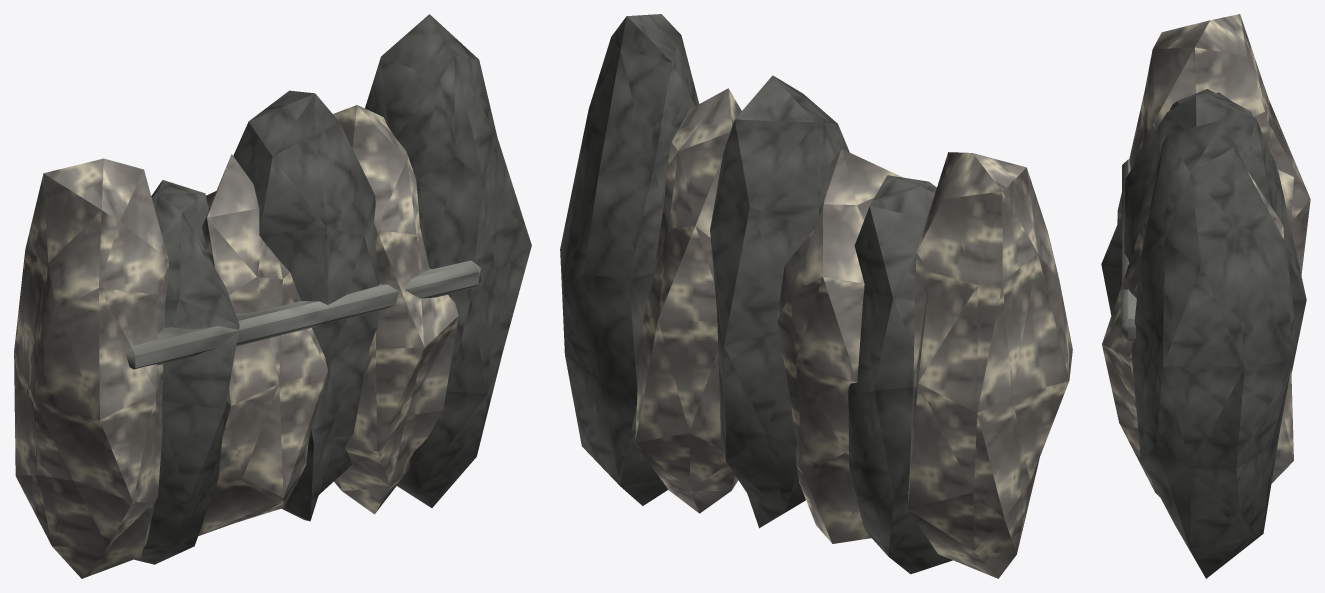
Rendered from SM_Cliff_Face02.fbx.
The picture shows the model from 3 angles, left to right: view 1: azimuth 30°, elevation 25°; view 2: azimuth 150°, elevation 25°; view 3: azimuth 270°, elevation 25°; orthographic projection. The views are drawn at different scales.
Visible parts, largest first — view 1: SM_Cliff_Face02; view 2: SM_Cliff_Face02; view 3: SM_Cliff_Face02.
Boxes of the visible parts, x1,y1,x2,y2 form: SM_Cliff_Face02: (14,14,531,578); SM_Cliff_Face02: (560,14,1072,578); SM_Cliff_Face02: (1101,14,1310,578).
Size of the model in its own units: 24.62 by 23.56 by 9.66.
Materials: 1 (1 with a texture image).
